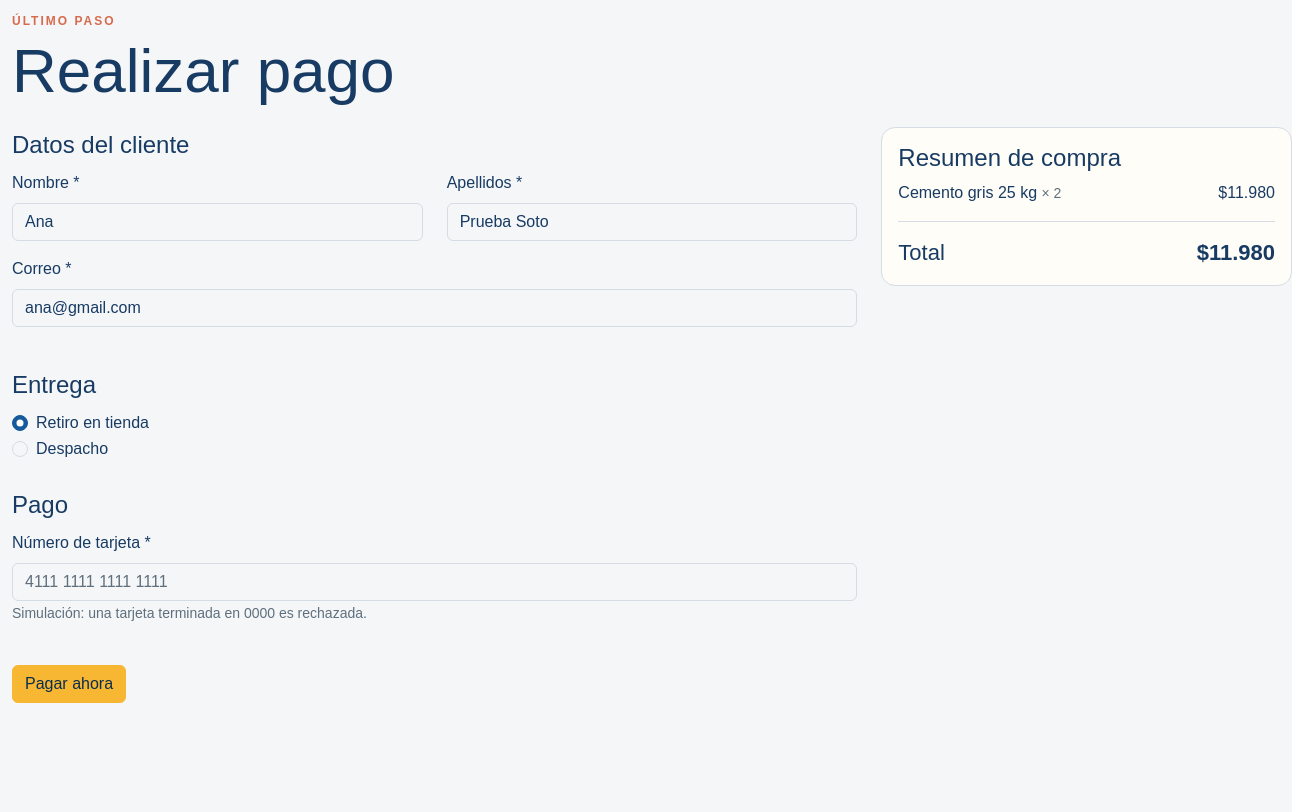
Test: CheckoutContainer › muestra errores y no paga si la tarjeta falta
What coordinates should you click on to do the following:
click the button "Pagar ahora"
I would click on:
 (69, 684)
Its box is [12,665,126,703].
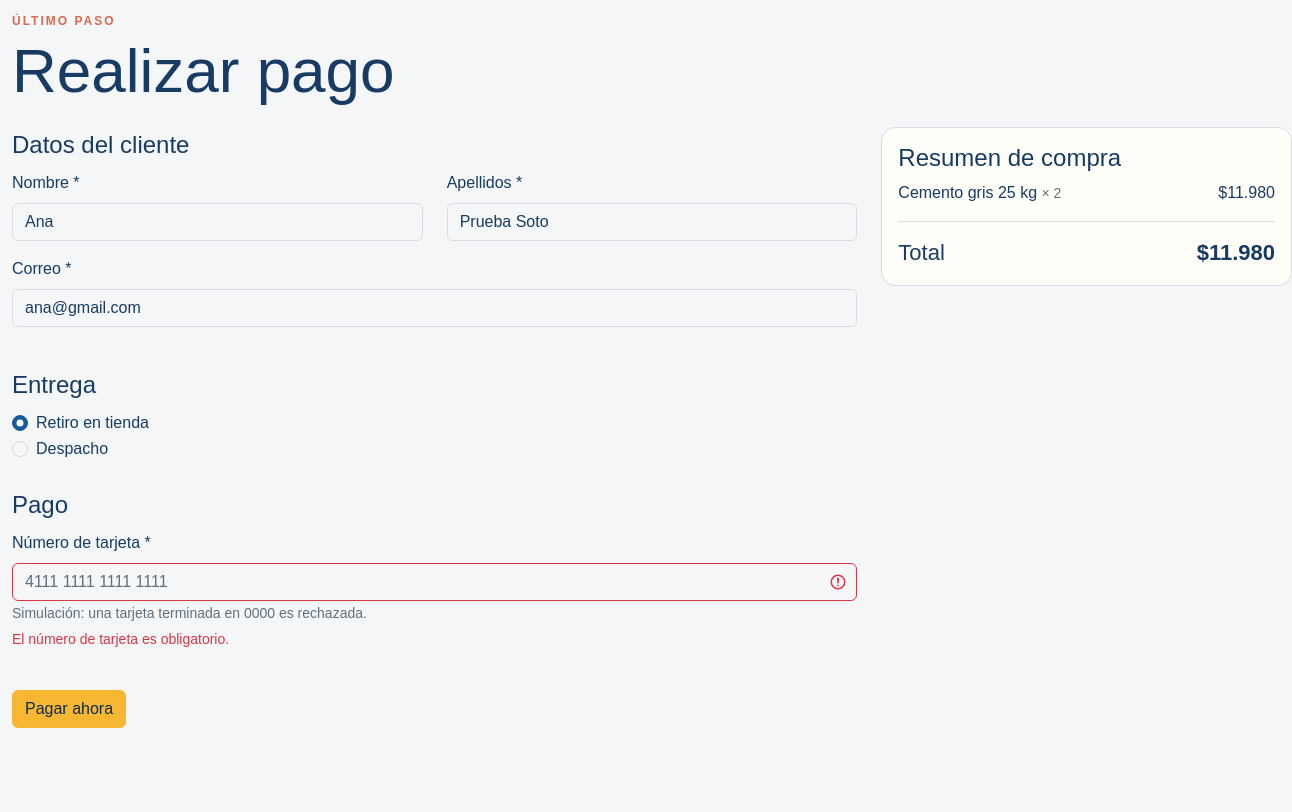
Check: the text "El número de tarjeta es obligatorio." is shown, box [12,631,229,647]
